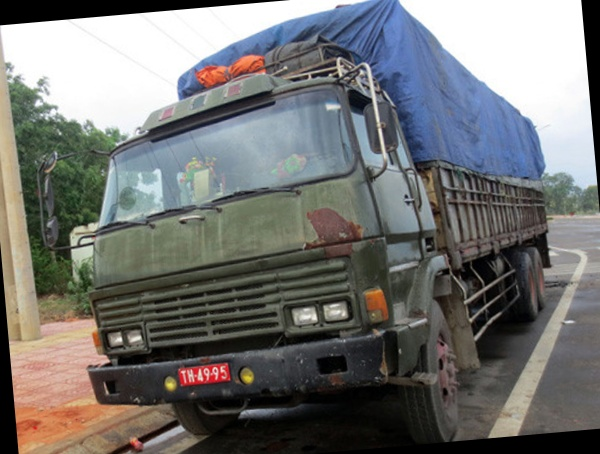plate: (175, 359, 238, 389)
